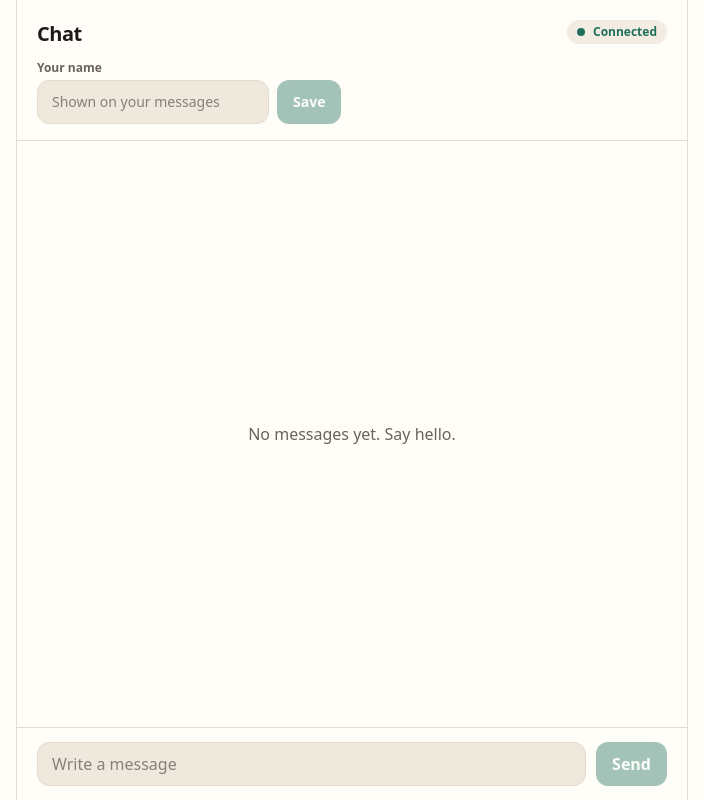
Test: chat app › shows a saved name instead of the input
This screenshot has width=705, height=800.
Type "Ada" into the field labelled "Your name" at (153, 102), box x1=37 y1=80 x2=269 y2=124
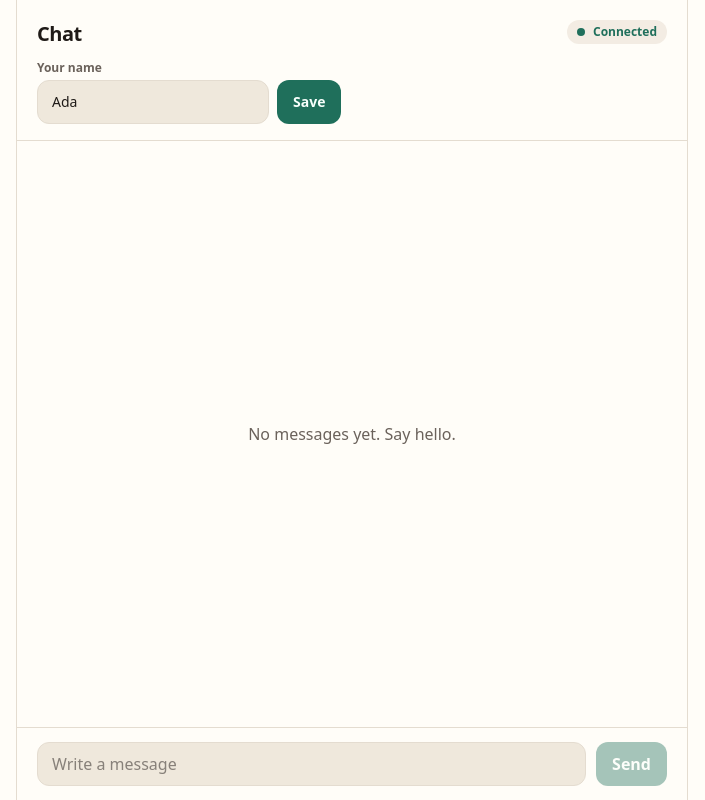
Click the button "Save" at (309, 102), box x1=277 y1=80 x2=341 y2=124
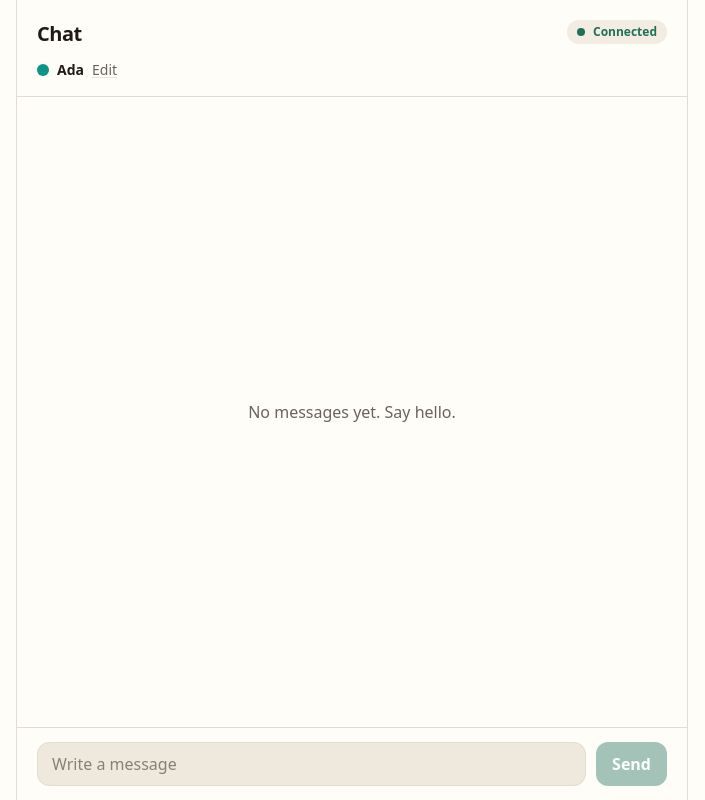
Expected: the text "Ada" is shown, x1=57 y1=60 x2=84 y2=80
Expected: the label "Your name" is gone
